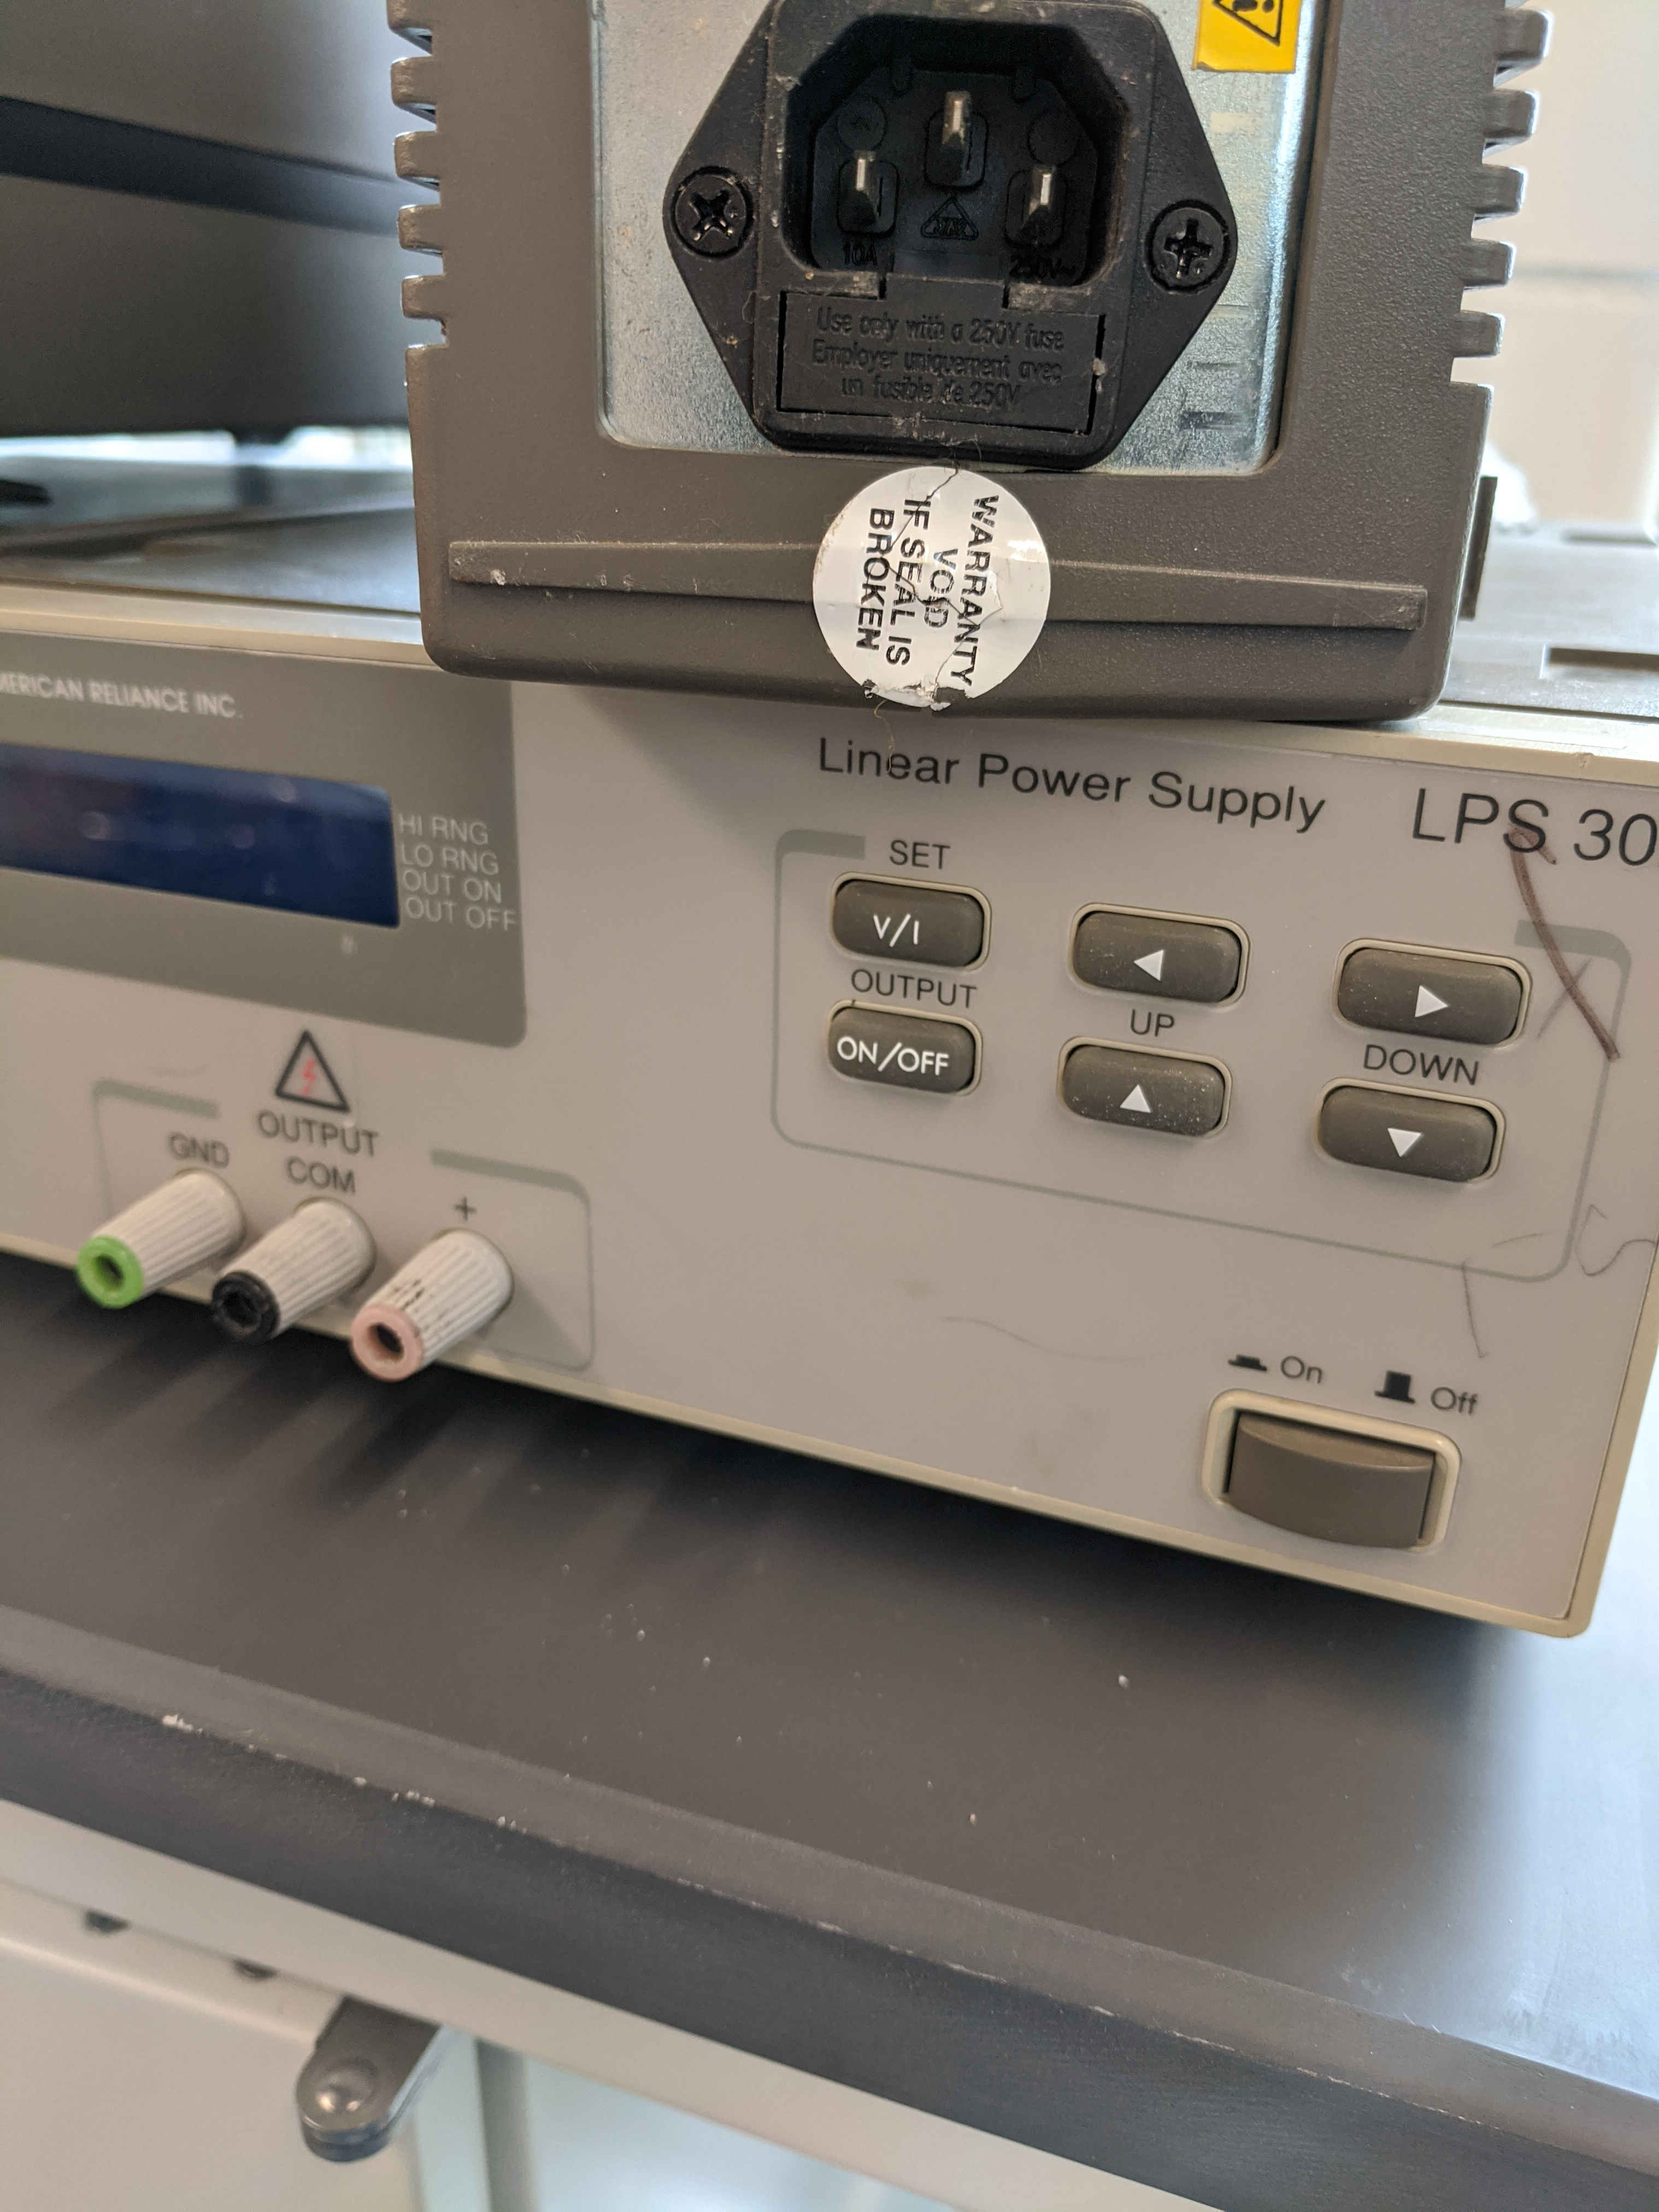cross_recessed_screw: (673, 157, 762, 260), (1152, 190, 1222, 286)
